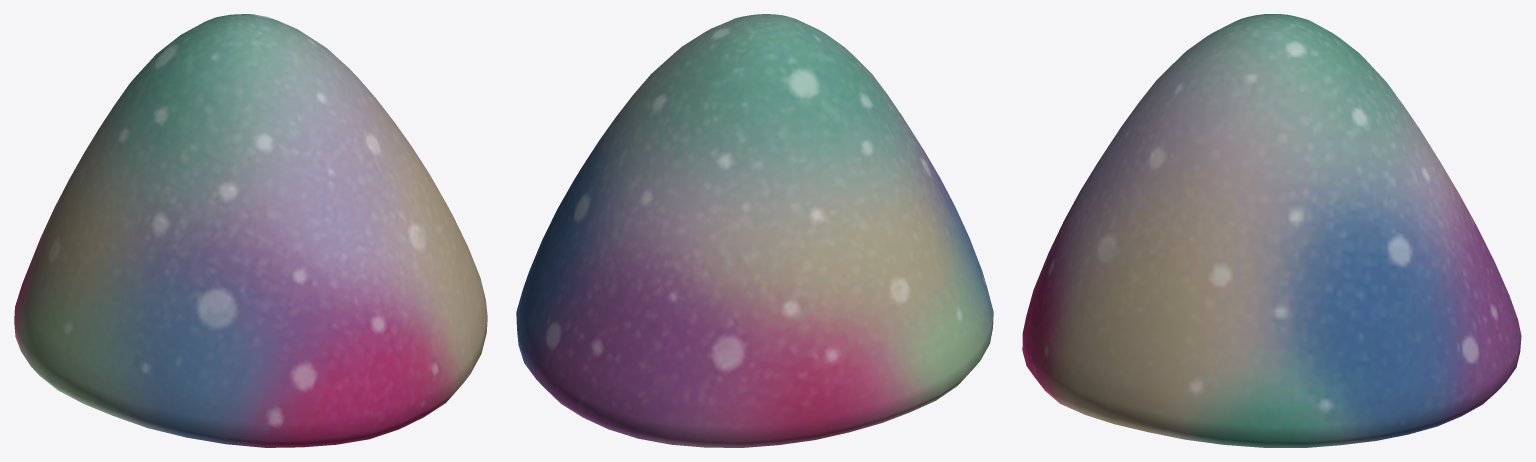
File: hypnoshroom_sombrero.obj
3 views of the same model, side by side, from view 1: azimuth 30°, elevation 25°; view 2: azimuth 150°, elevation 25°; view 3: azimuth 270°, elevation 25° (orthographic).
Visible parts, largest first — view 1: hypnoshroom_sombrero; view 2: hypnoshroom_sombrero; view 3: hypnoshroom_sombrero.
Part boxes in pixels (x1,y1,x2,y2): hypnoshroom_sombrero: [14, 14, 487, 447]; hypnoshroom_sombrero: [516, 14, 993, 447]; hypnoshroom_sombrero: [1022, 14, 1521, 447].
Size of the model in its own units: 1.09 by 0.8398 by 1.12.
